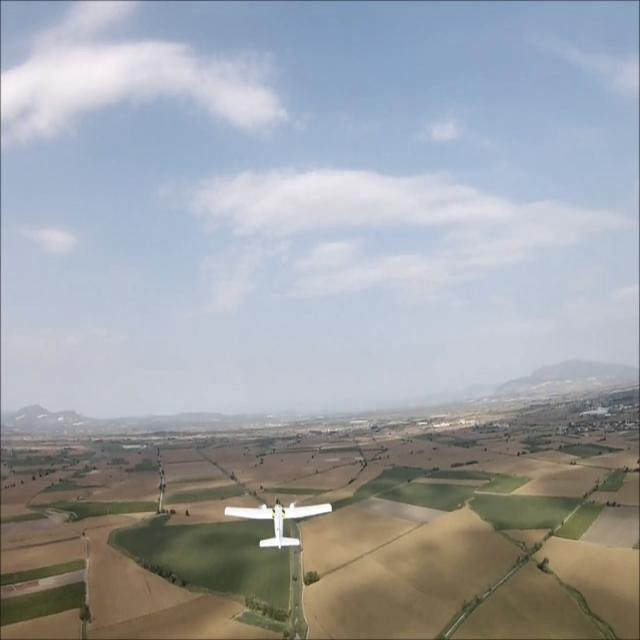iha: (255, 502, 301, 551)
